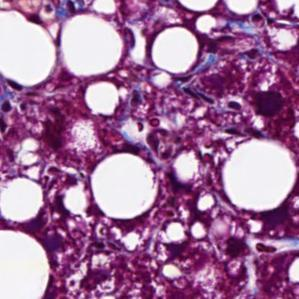inflammation: (217, 93, 248, 115)
